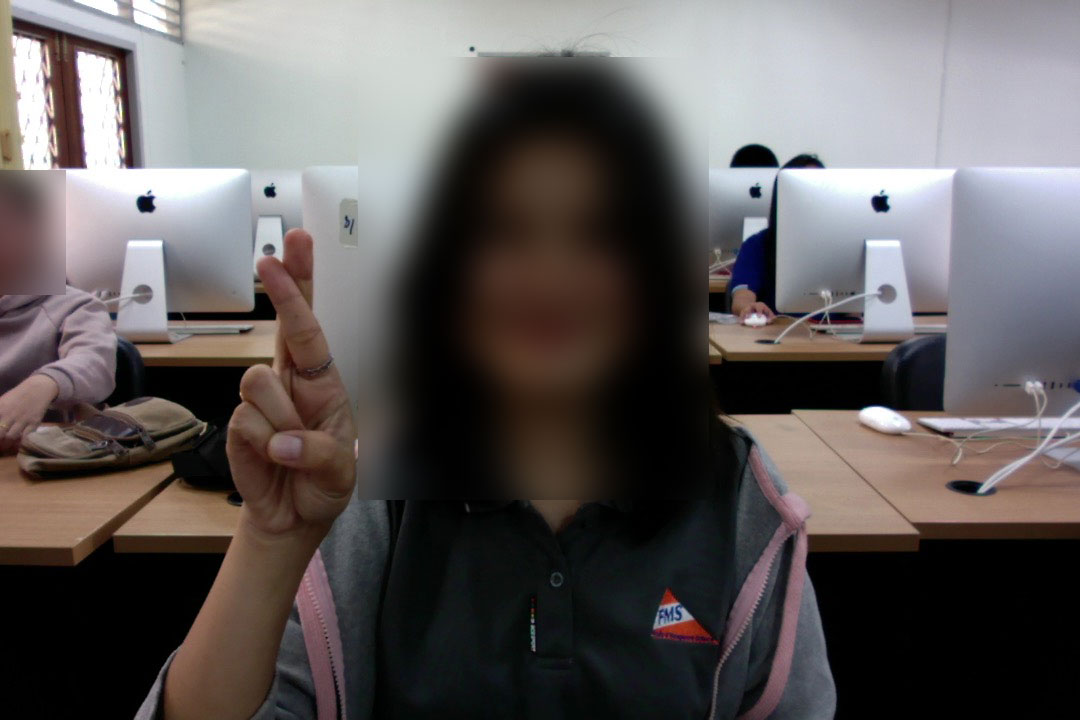rao: (214, 214, 364, 533)
